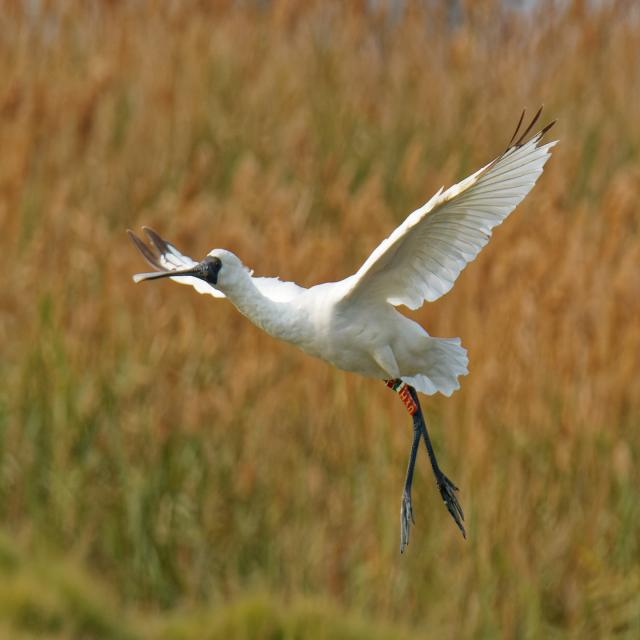Black-faced spoonbill: (128, 108, 554, 552)
